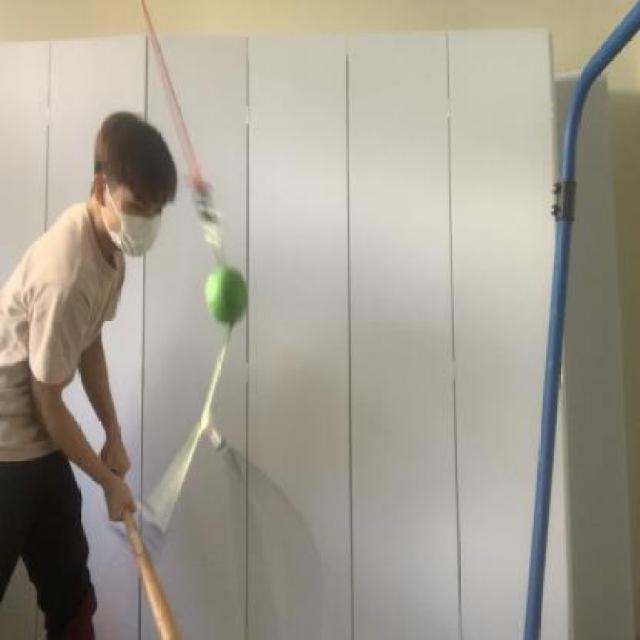baseball: (198, 257, 248, 329)
